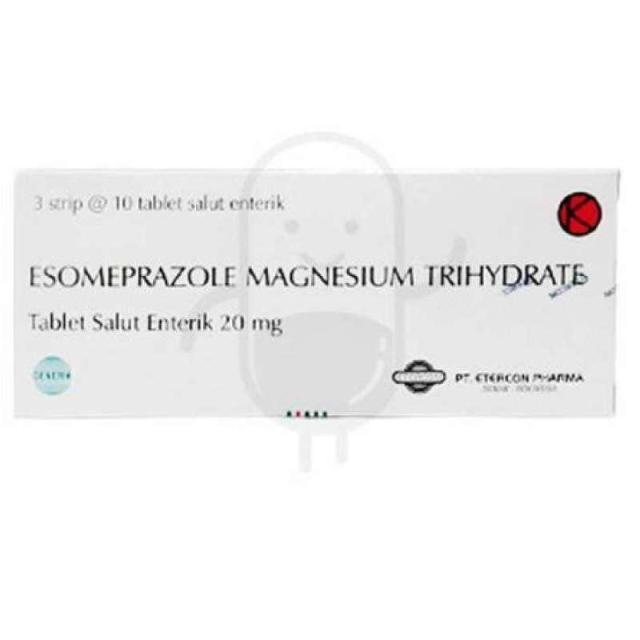drug-name: (21, 258, 594, 292)
